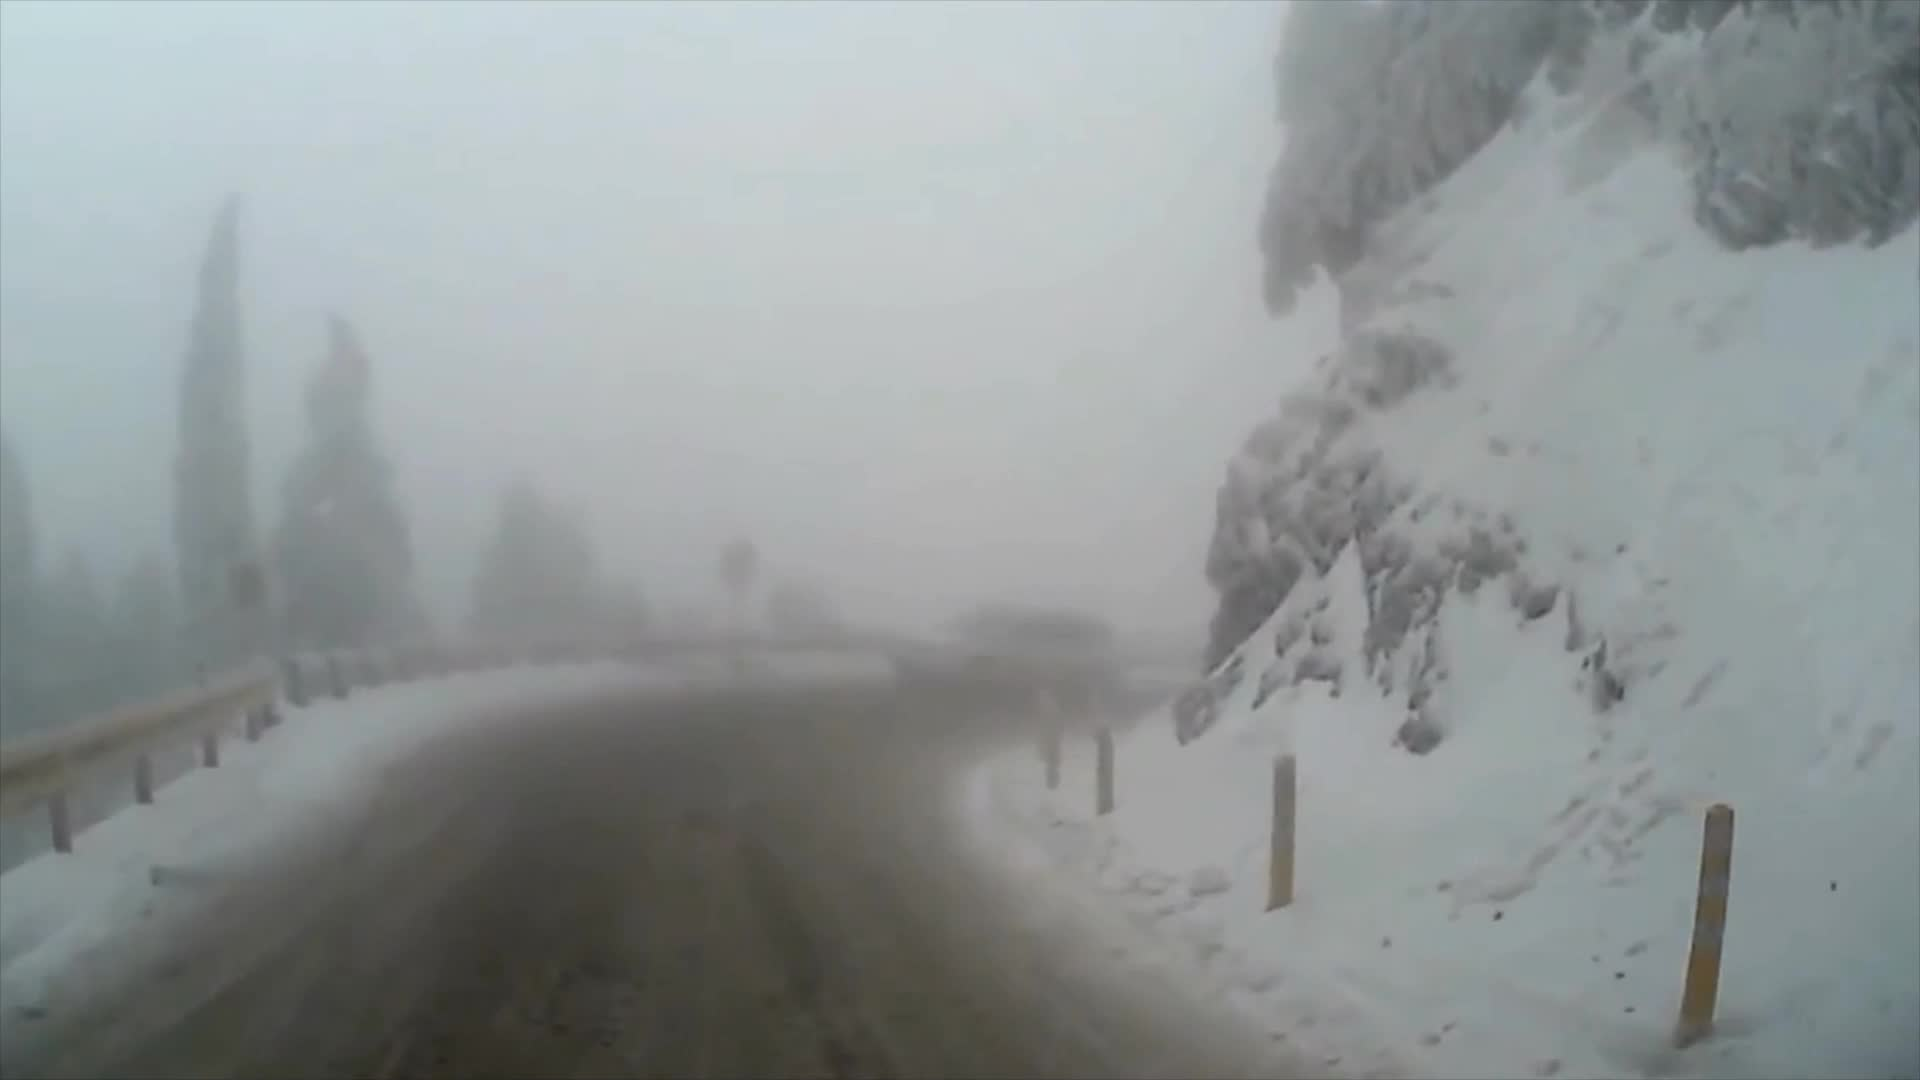vehicle: (884, 593, 1124, 709)
